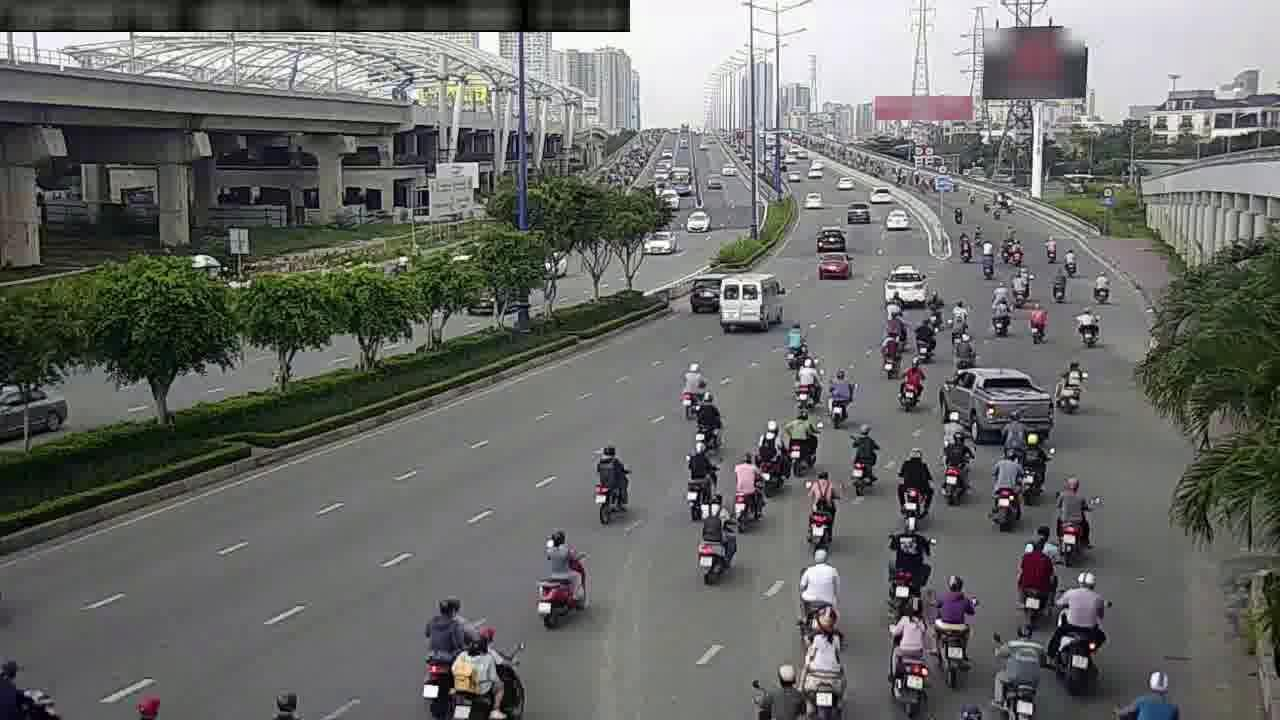14: (718, 272, 782, 329)
container: (942, 369, 1050, 422), (882, 263, 930, 306), (683, 276, 727, 309), (815, 246, 853, 281), (814, 221, 847, 249)
motorbike: (1052, 571, 1110, 677), (415, 589, 466, 705), (784, 618, 848, 709), (532, 528, 592, 624), (885, 608, 936, 700), (989, 633, 1045, 713), (929, 575, 975, 672), (586, 441, 635, 525), (691, 495, 739, 578), (793, 553, 842, 634), (0, 646, 51, 720), (1049, 477, 1097, 554), (1011, 536, 1055, 616), (884, 527, 927, 604), (891, 447, 932, 520), (801, 468, 840, 544), (752, 420, 791, 492), (841, 422, 880, 492), (678, 441, 716, 512), (986, 458, 1023, 528), (728, 451, 763, 523), (934, 433, 970, 500), (785, 406, 822, 469), (688, 387, 725, 448), (1010, 434, 1044, 494), (821, 367, 854, 427), (673, 364, 709, 419), (1051, 357, 1085, 413), (892, 359, 924, 412), (790, 357, 820, 410), (998, 420, 1031, 466), (948, 338, 978, 386), (1072, 301, 1102, 348), (940, 401, 970, 448), (779, 321, 808, 368), (933, 381, 960, 428), (911, 314, 938, 360), (875, 330, 901, 377), (1023, 300, 1050, 344), (984, 293, 1010, 337), (1087, 265, 1113, 305), (922, 287, 948, 327), (944, 302, 968, 345), (883, 304, 908, 343), (1045, 265, 1069, 303), (1010, 268, 1033, 305), (976, 246, 997, 282), (1060, 244, 1081, 277), (954, 230, 975, 262), (1003, 236, 1023, 266)
